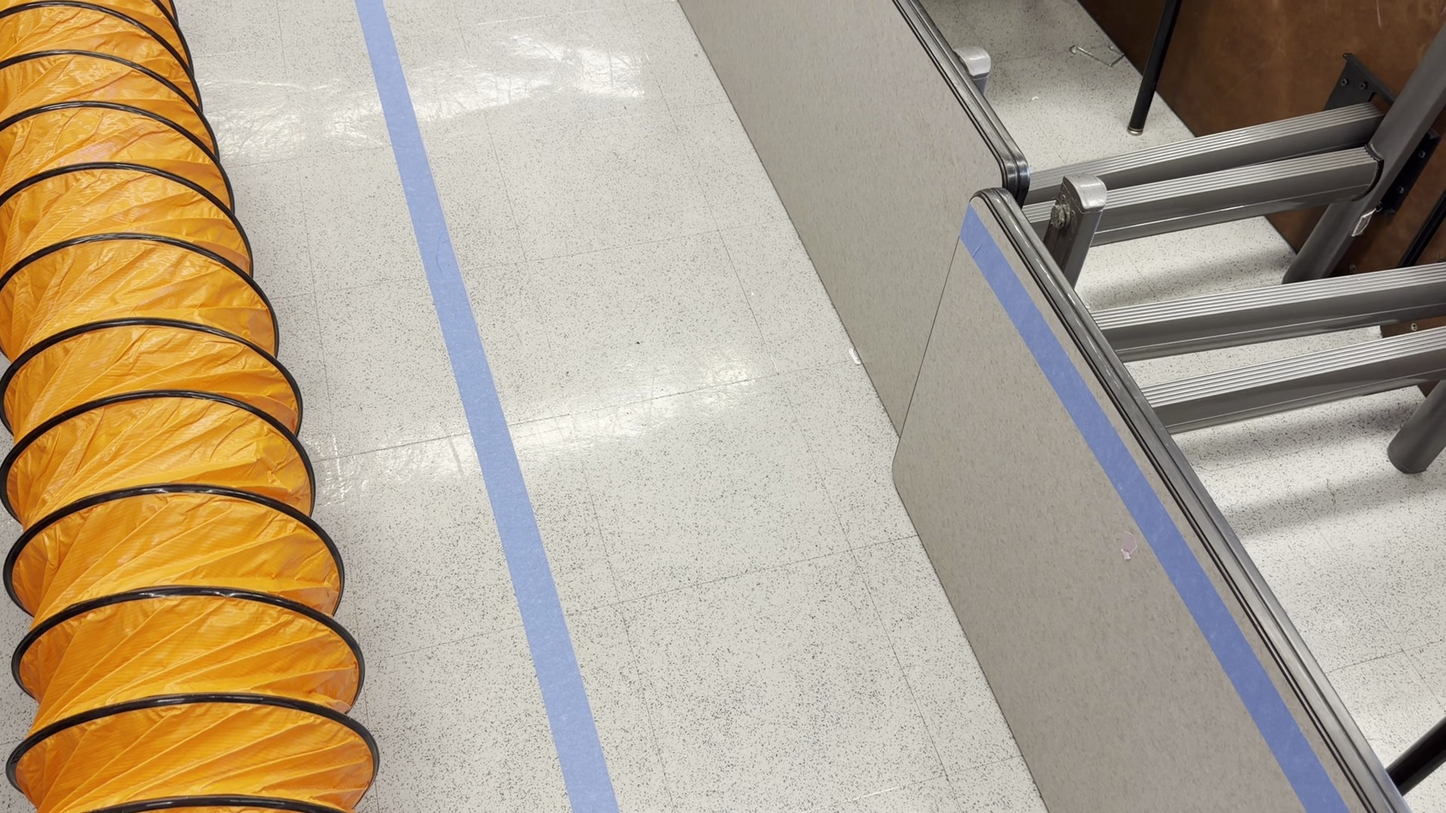racecar: (693, 0, 1443, 812)
